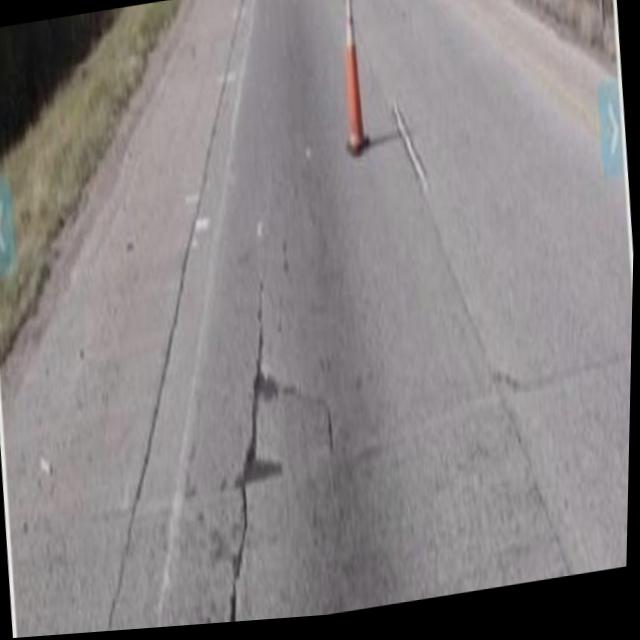Crack: (165, 235, 323, 630)
